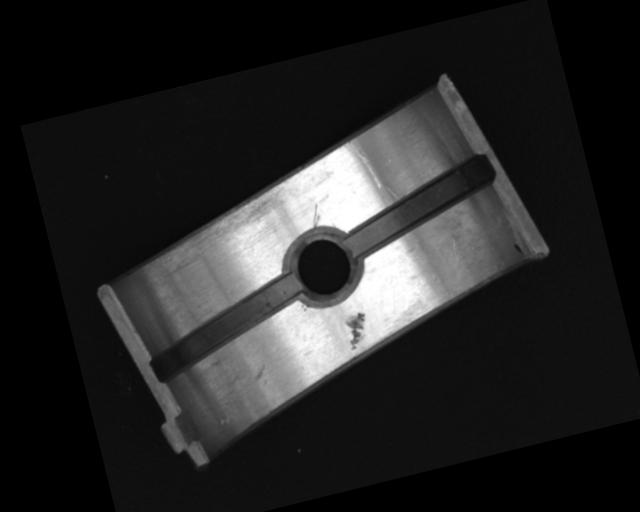blot: (512, 241, 525, 258)
bruise: (341, 309, 373, 351), (251, 363, 270, 387), (216, 415, 231, 427)
gap: (135, 268, 313, 383), (333, 152, 506, 262)
hole: (280, 222, 367, 310)
nick: (344, 135, 383, 195), (308, 203, 323, 228)
scratch: (128, 171, 297, 286)
